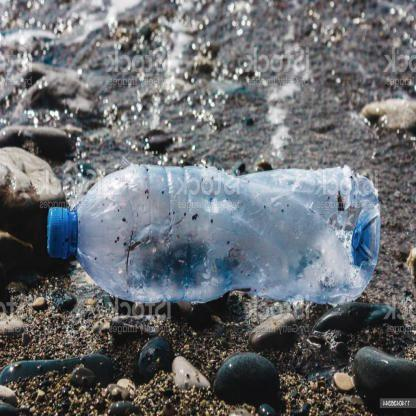Plastic: (39, 158, 383, 314)
